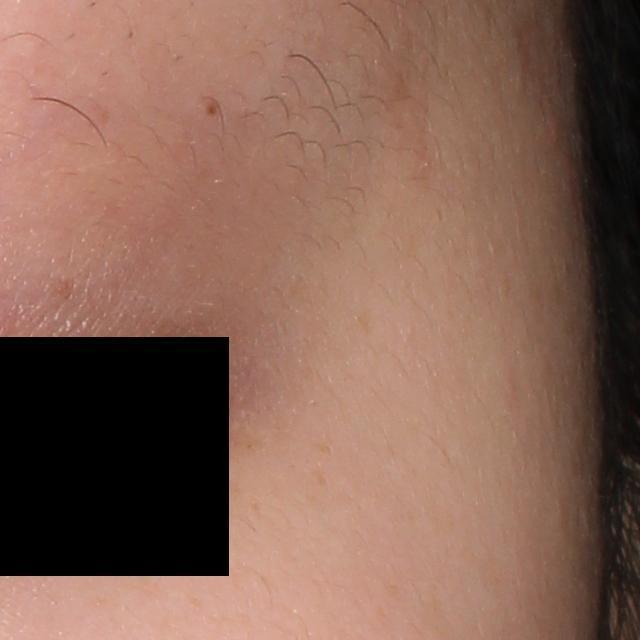nevus: (203, 101, 222, 119)
